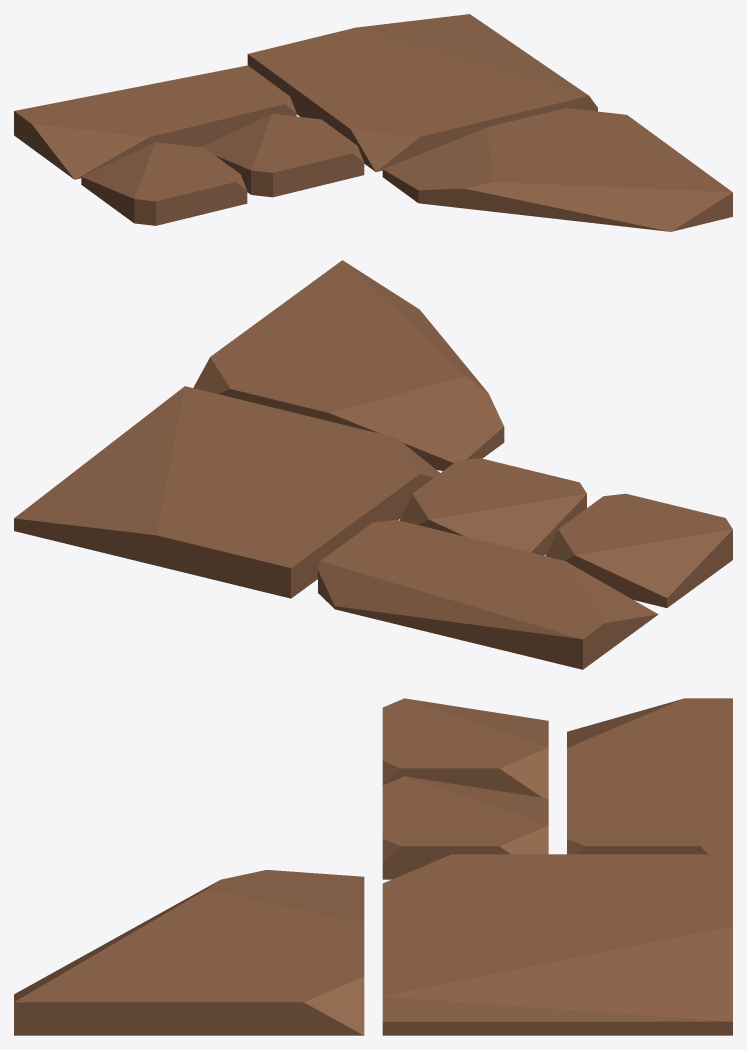
File: Stonewalk_003.FBX
3 renders of one model, top to bottom at view 1: azimuth 30°, elevation 25°; view 2: azimuth 150°, elevation 25°; view 3: azimuth 270°, elevation 25°, orthographic. The views are drawn at different scales.
Visible parts, largest first — view 1: Stonewalk_003; view 2: Stonewalk_003; view 3: Stonewalk_003.
Part boxes in pixels (box(x1,y1,x2,y2)): Stonewalk_003: box(14, 14, 732, 231); Stonewalk_003: box(14, 260, 732, 669); Stonewalk_003: box(14, 698, 732, 1035).
Bounding box in the file's own units: 76.77 × 3.94 × 76.77.
